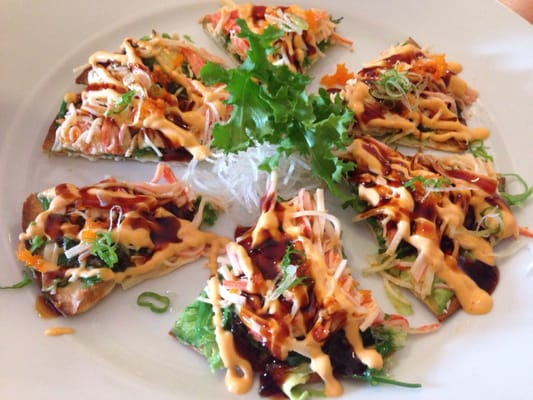curry: (168, 300, 225, 374)
soup: (16, 176, 219, 317)
